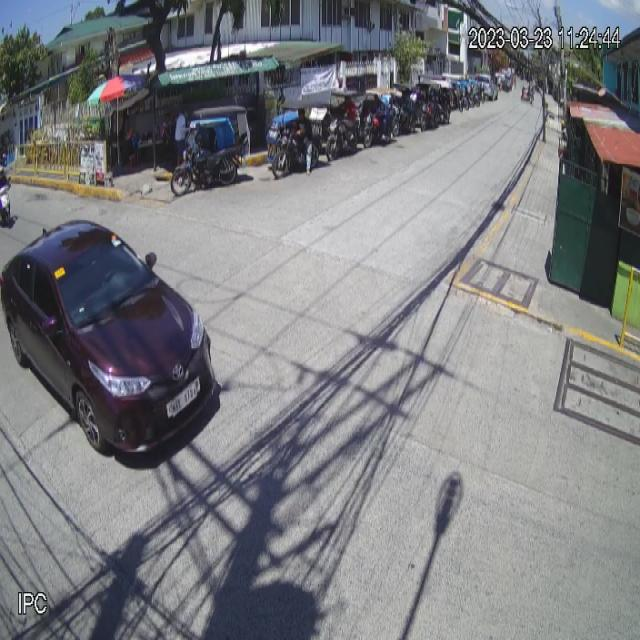Car: (2, 218, 216, 457)
